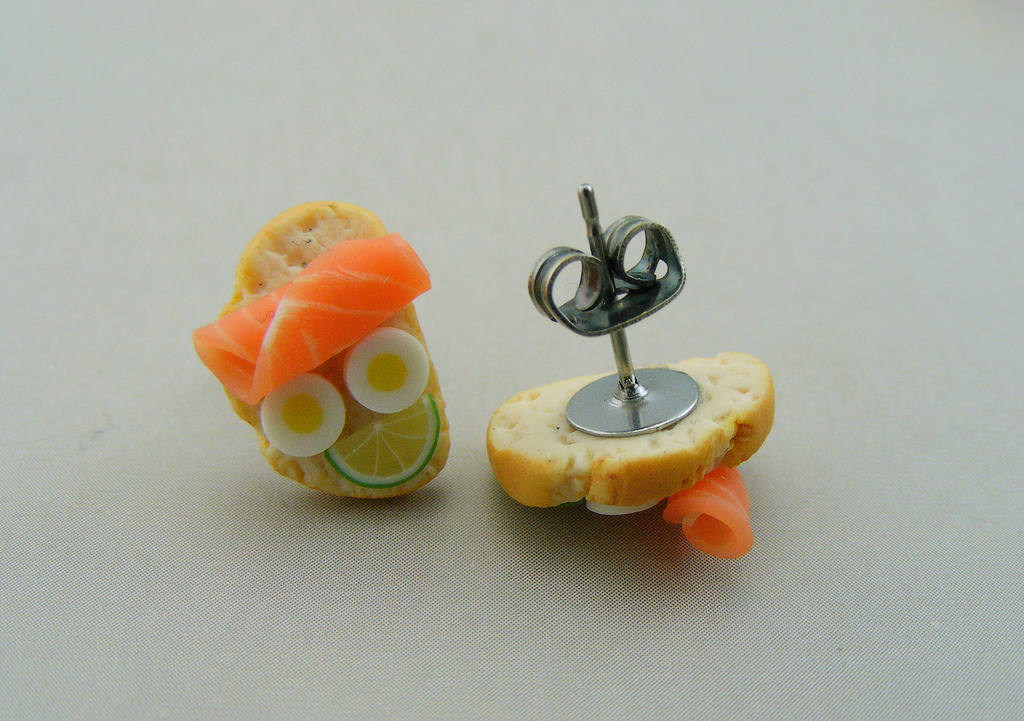slice of bread: (234, 198, 444, 494), (501, 356, 771, 493)
